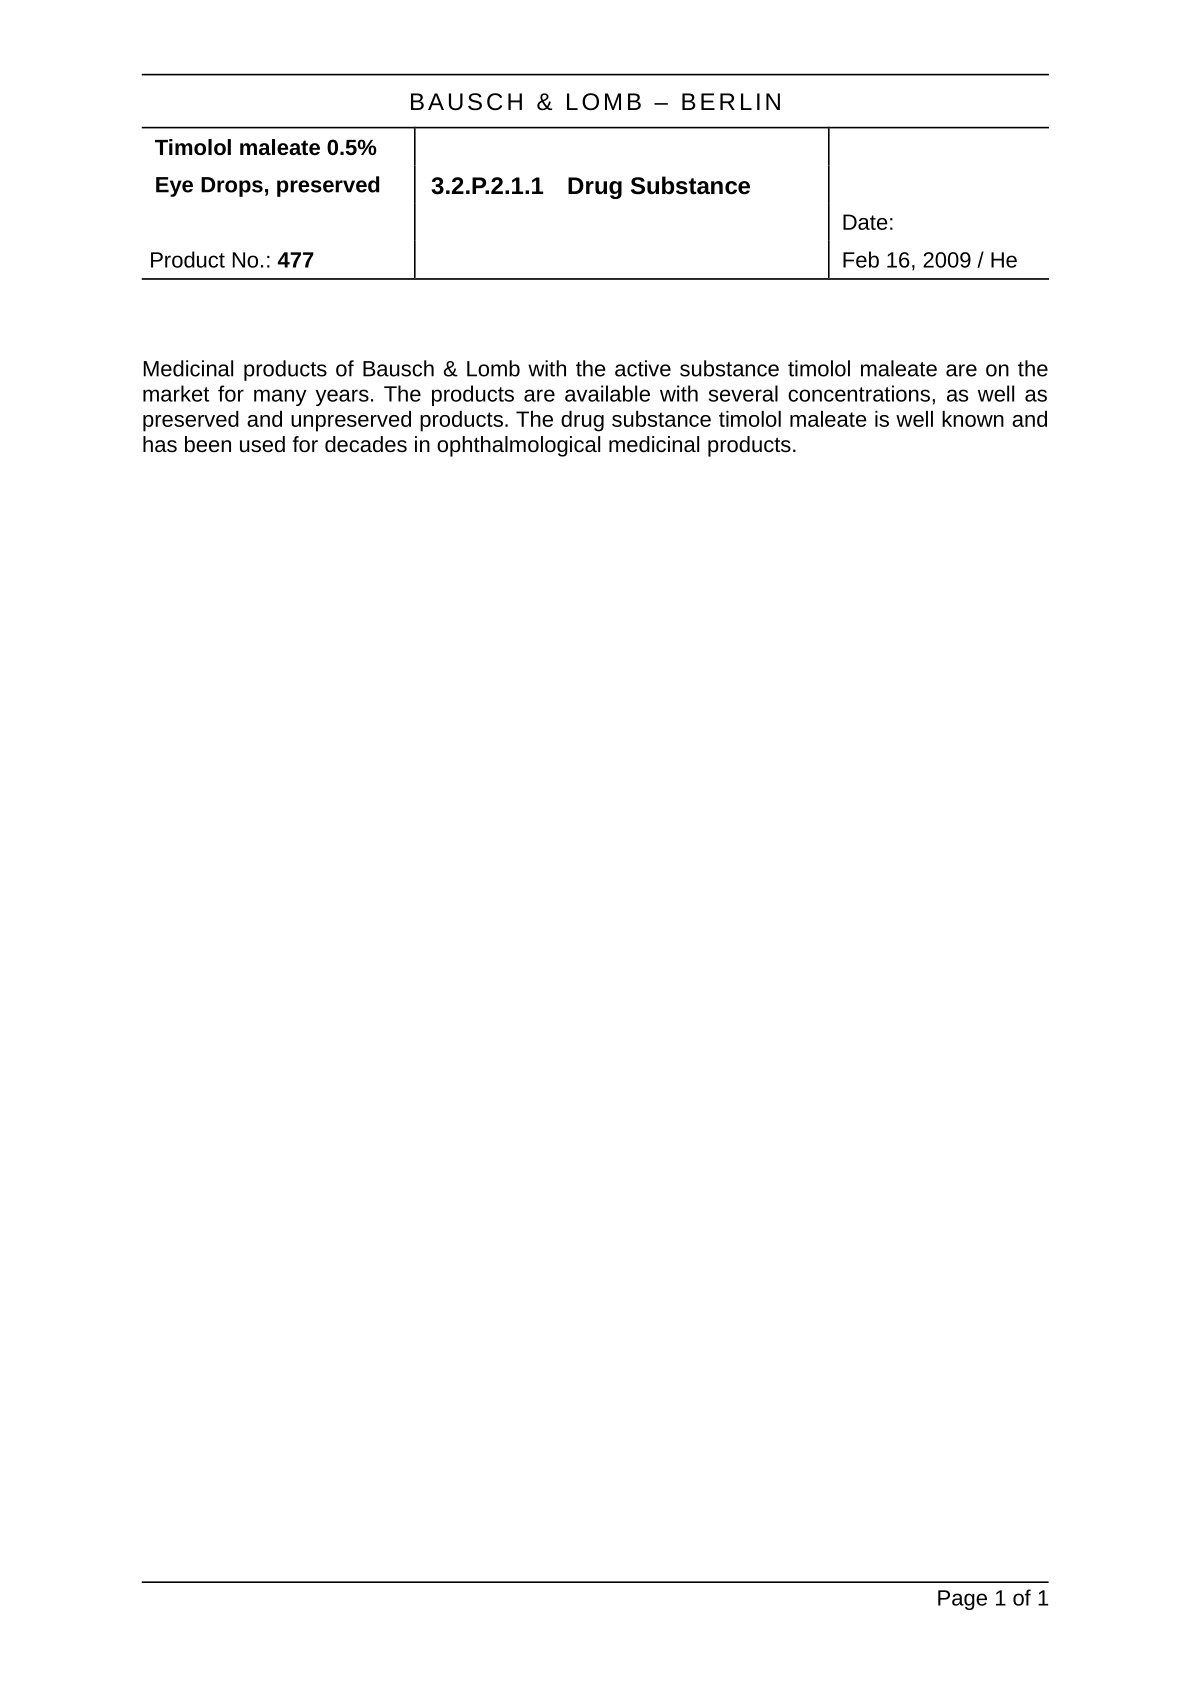partial_lined: (140, 126, 1051, 282)
